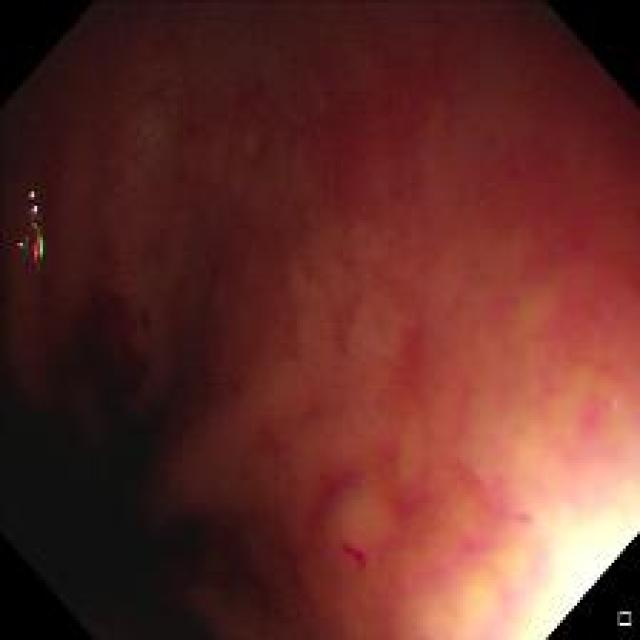color misalignment: (15, 182, 61, 279)
contrast: (14, 314, 260, 626)
saturation: (464, 499, 636, 636)
